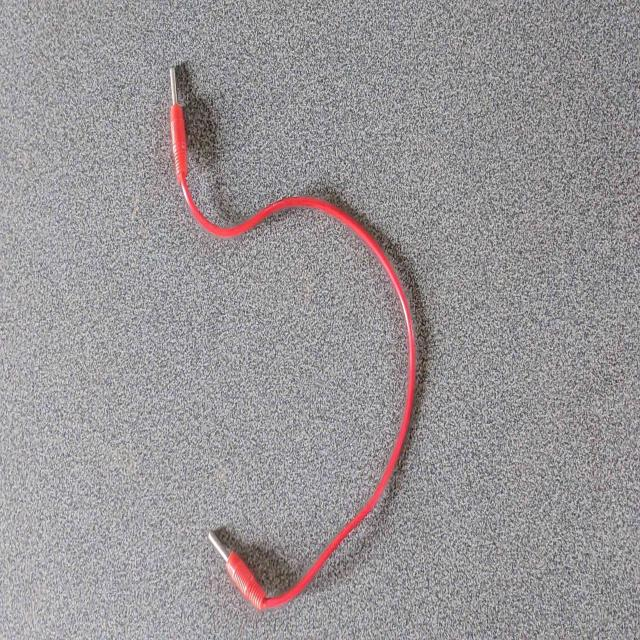BNC Cable: (149, 65, 421, 619)
